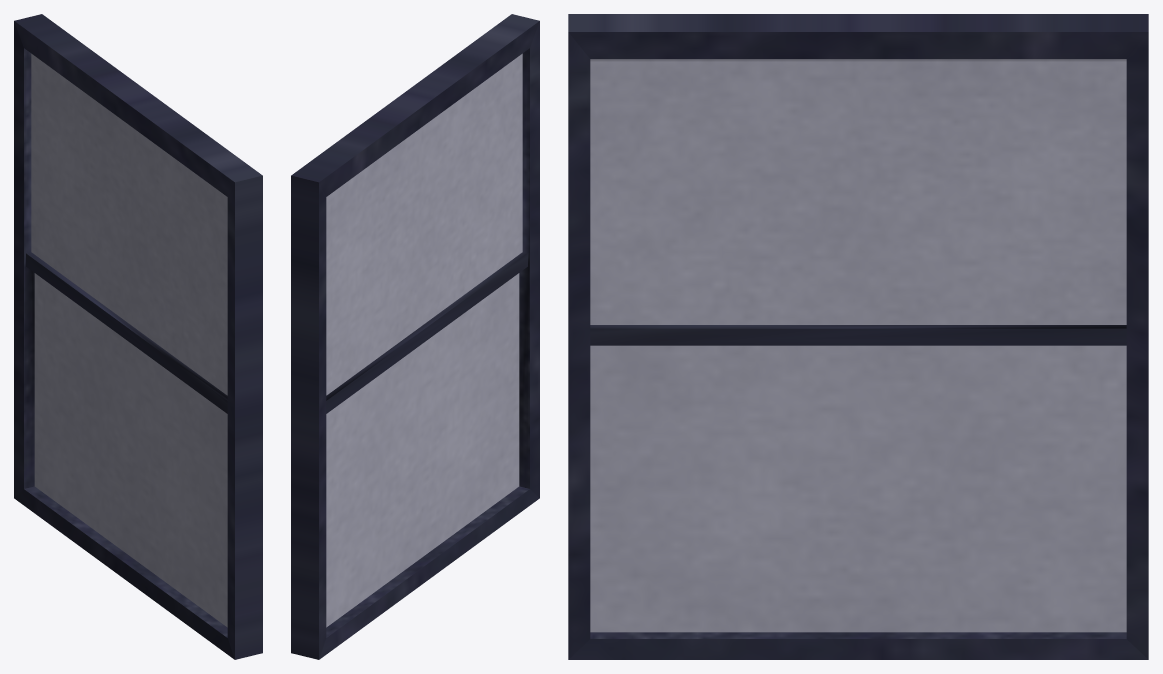
File: Window.fbx
3 views of the same model, side by side, from view 1: azimuth 30°, elevation 25°; view 2: azimuth 150°, elevation 25°; view 3: azimuth 270°, elevation 25° (orthographic). The views are drawn at different scales.
Visible parts, largest first — view 1: Window; view 2: Window; view 3: Window.
Part boxes in pixels (x1,y1,x2,y2): Window: (14, 14, 262, 659); Window: (291, 14, 539, 659); Window: (568, 14, 1148, 659).
Size of the model in its own units: 13.2 by 215 by 181.
